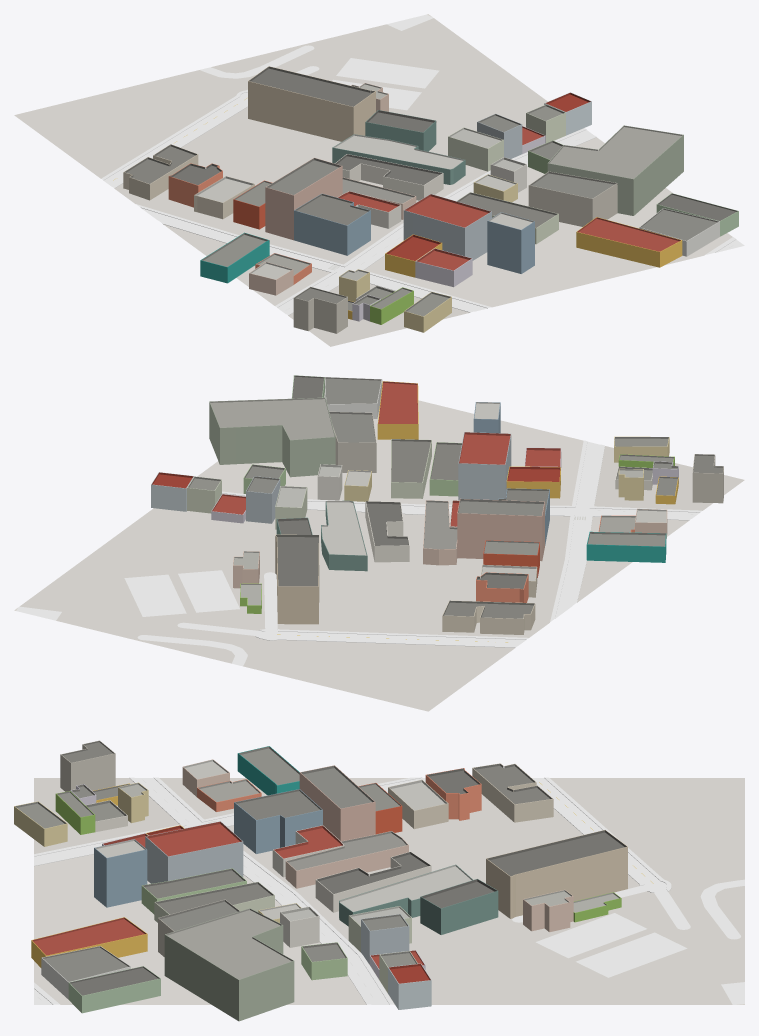
The picture shows the model from 3 angles, top to bottom: view 1: azimuth 30°, elevation 25°; view 2: azimuth 150°, elevation 25°; view 3: azimuth 270°, elevation 25°; orthographic projection. The views are drawn at different scales.
Visible parts, largest first — view 1: ground, walls, roofs, asphalt, sidewalk, grass; view 2: ground, roofs, walls, asphalt, grass, sidewalk; view 3: ground, walls, roofs, asphalt, grass, sidewalk.
Part boxes in pixels (x1,y1,x2,y2): ground: [14, 14, 732, 346]; walls: [123, 81, 738, 333]; roofs: [123, 66, 738, 316]; asphalt: [103, 45, 744, 313]; sidewalk: [101, 89, 736, 315]; grass: [332, 14, 439, 110]; ground: [14, 393, 744, 711]; roofs: [151, 375, 723, 618]; walls: [151, 378, 723, 634]; asphalt: [137, 441, 699, 666]; grass: [16, 570, 239, 620]; sidewalk: [222, 440, 701, 647]; ground: [34, 778, 744, 1004]; walls: [14, 744, 627, 1021]; roofs: [14, 740, 627, 995]; asphalt: [34, 778, 744, 1004]; grass: [536, 913, 744, 1004]; sidewalk: [34, 777, 671, 1004].
Size of what is drawn, in the model's own units: 214 by 19.54 by 257.
